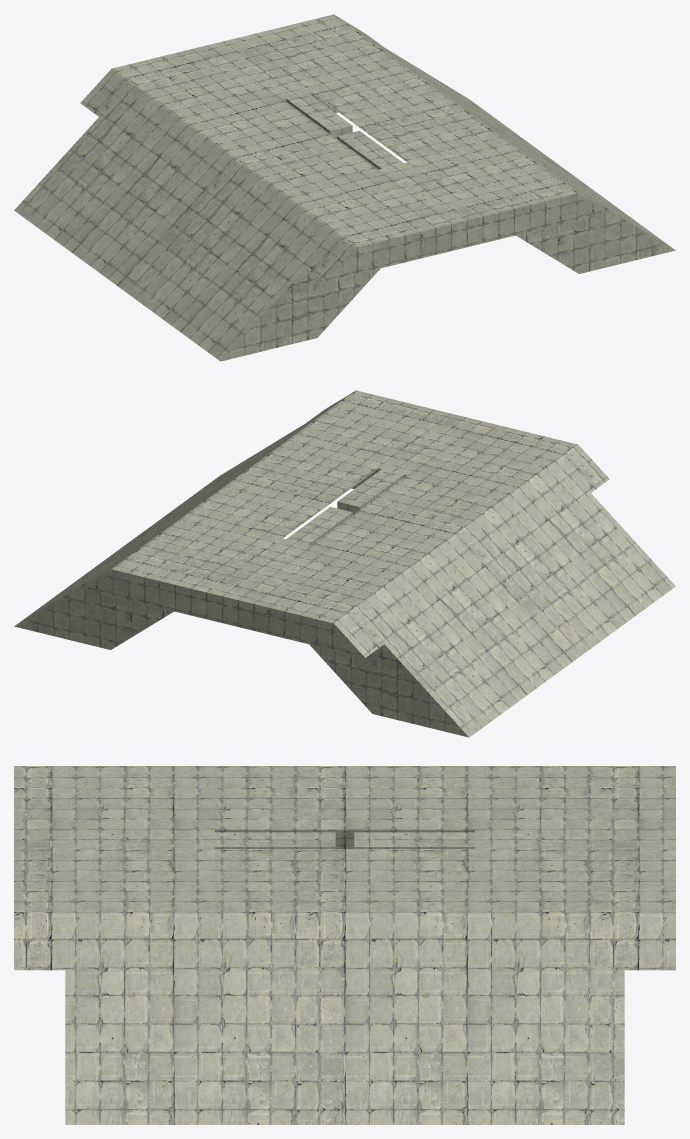
Rendered from SM_LDFest_05_SHADOW.fbx.
3 views of the same model, one above another, from view 1: azimuth 30°, elevation 25°; view 2: azimuth 150°, elevation 25°; view 3: azimuth 270°, elevation 25° (orthographic). The views are drawn at different scales.
Parts seen in each view (by area): view 1: SM_LDFest_05_SHADOW; view 2: SM_LDFest_05_SHADOW; view 3: SM_LDFest_05_SHADOW.
Part boxes in pixels (<box>): SM_LDFest_05_SHADOW: <box>14,14,675,361</box>; SM_LDFest_05_SHADOW: <box>14,390,675,737</box>; SM_LDFest_05_SHADOW: <box>14,766,675,1124</box>.
Size of the model in its own units: 4708 by 983 by 4377.
